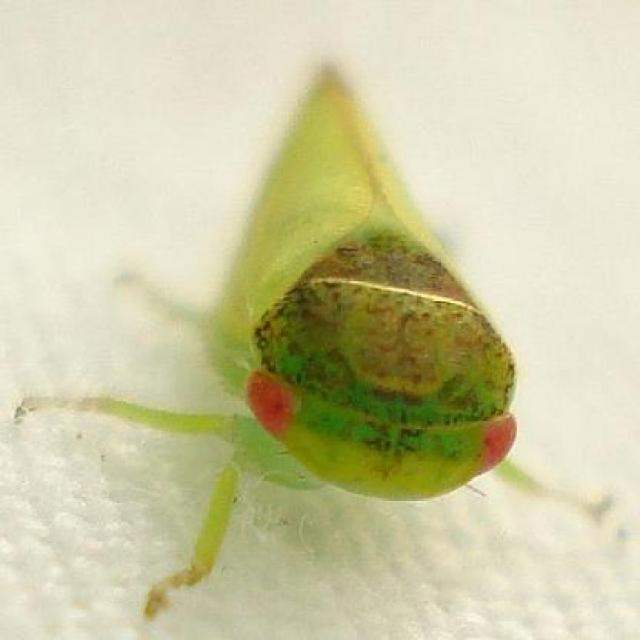green-leafhopper: (16, 64, 521, 621)
